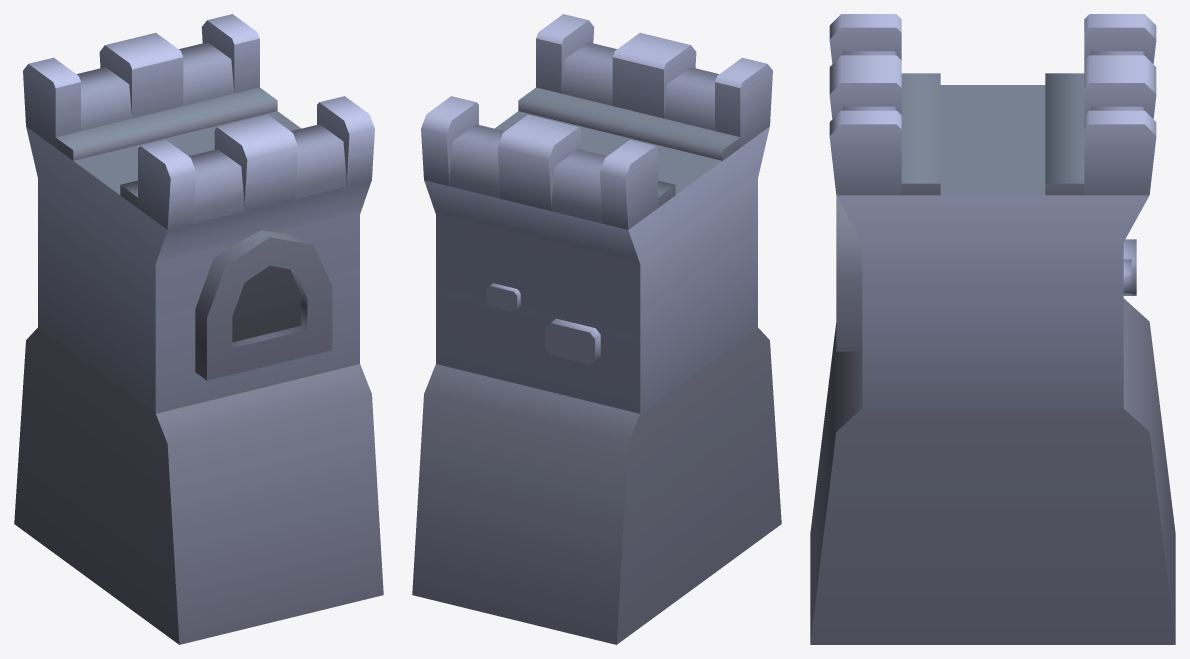
File: castle-window.glb
3 renders of one model, left to right at view 1: azimuth 30°, elevation 25°; view 2: azimuth 150°, elevation 25°; view 3: azimuth 270°, elevation 25°, orthographic. The views are drawn at different scales.
Visible parts, largest first — view 1: castle-window; view 2: castle-window; view 3: castle-window.
Part boxes in pixels (x1,y1,x2,y2): castle-window: (14, 14, 383, 644); castle-window: (412, 14, 781, 644); castle-window: (810, 14, 1175, 644).
Bounding box in the file's own units: 2 × 4.4 × 2.8.
Materials: 1 (1 with a texture image).
